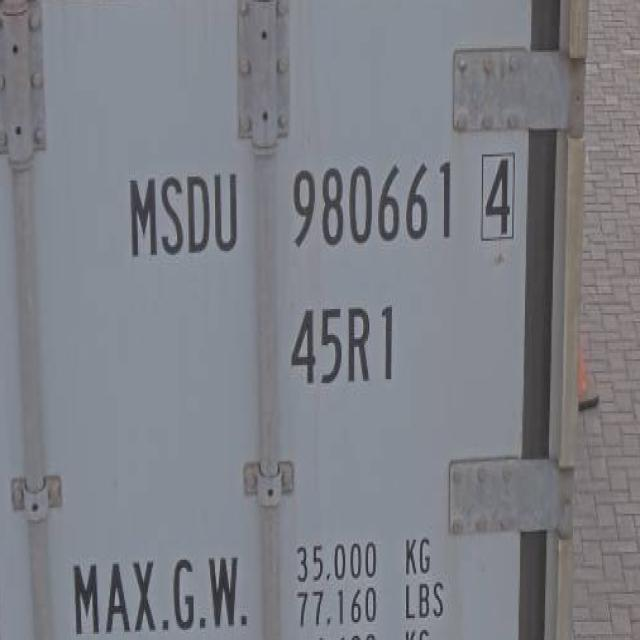dv: (473, 144, 521, 244)
owner: (120, 161, 243, 273)
serial: (287, 139, 456, 260)
size: (281, 292, 404, 390)
